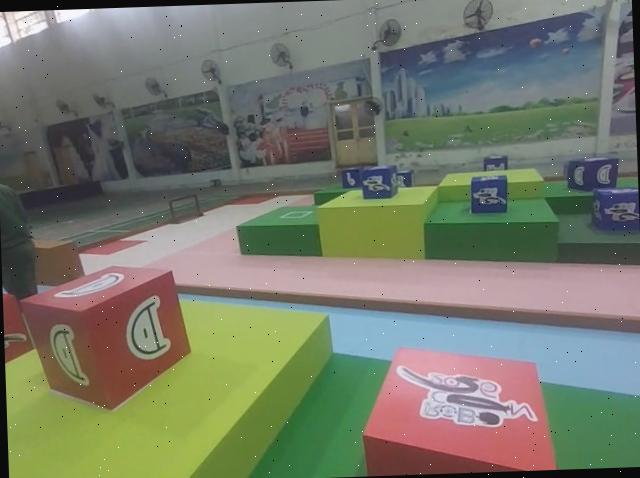R1: (358, 335, 557, 477)
R2 Real: (21, 257, 196, 415)
